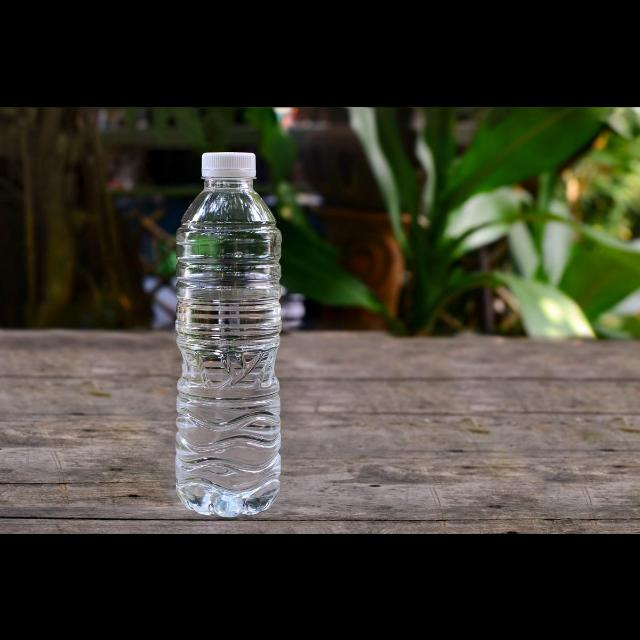garrafa plástica: (176, 176, 284, 518)
tampa plástica: (201, 150, 257, 178)
